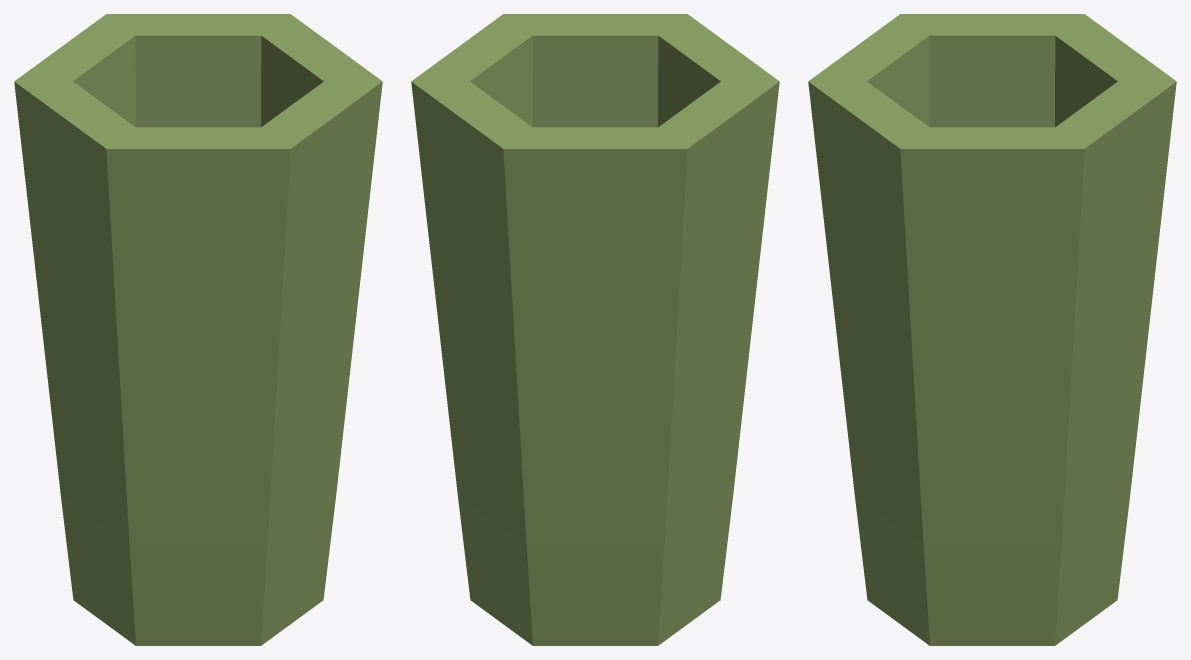
The model's file is CupGreen.fbx.
3 views of the same model, side by side, from view 1: azimuth 30°, elevation 25°; view 2: azimuth 150°, elevation 25°; view 3: azimuth 270°, elevation 25° (orthographic).
Parts seen in each view (by area): view 1: CupGreen; view 2: CupGreen; view 3: CupGreen.
Boxes of the visible parts, x1=… form: CupGreen: x1=14, y1=14, x2=382, y2=645; CupGreen: x1=411, y1=14, x2=779, y2=645; CupGreen: x1=808, y1=14, x2=1176, y2=645.
Size of the model in its own units: 0.1064 by 0.1908 by 0.1229.
